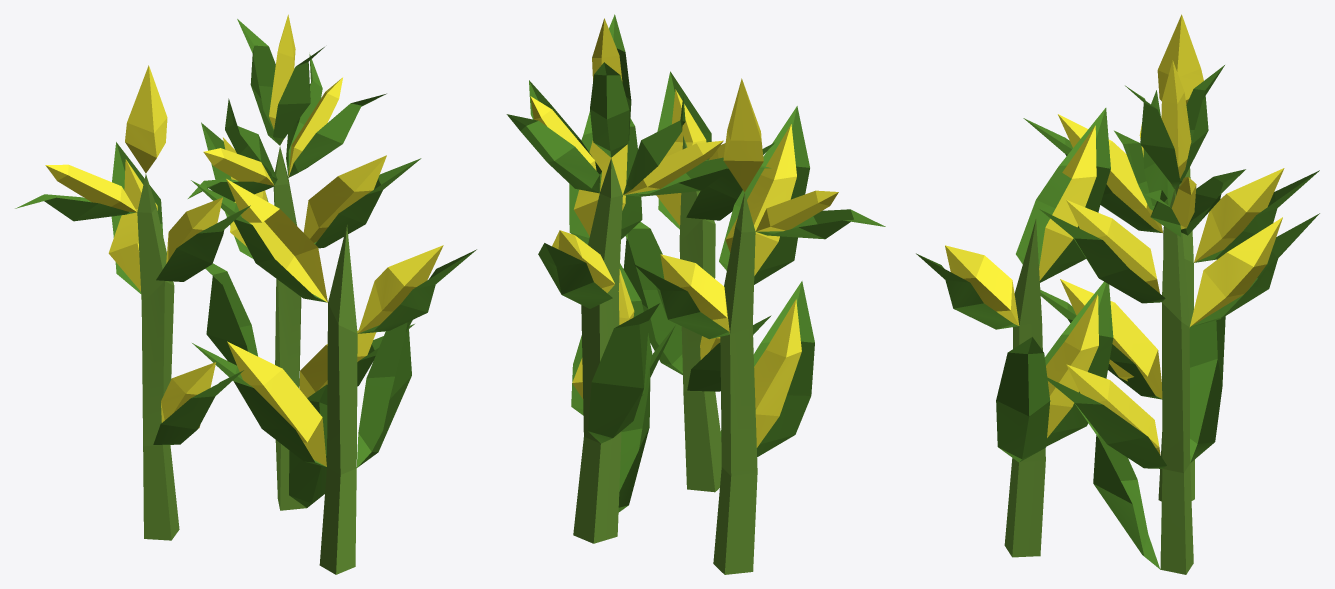
Rendered from corn.glb.
3 renders of one model, left to right at view 1: azimuth 30°, elevation 25°; view 2: azimuth 150°, elevation 25°; view 3: azimuth 270°, elevation 25°, orthographic. The views are drawn at different scales.
Parts seen in each view (by area): view 1: corn_3; view 2: corn_3; view 3: corn_3.
Boxes of the visible parts, x1,y1,x2,y2 form: corn_3: (15, 14, 476, 574); corn_3: (506, 14, 885, 574); corn_3: (916, 14, 1319, 574).
Size of the model in its own units: 2.55 by 3.36 by 2.45.
